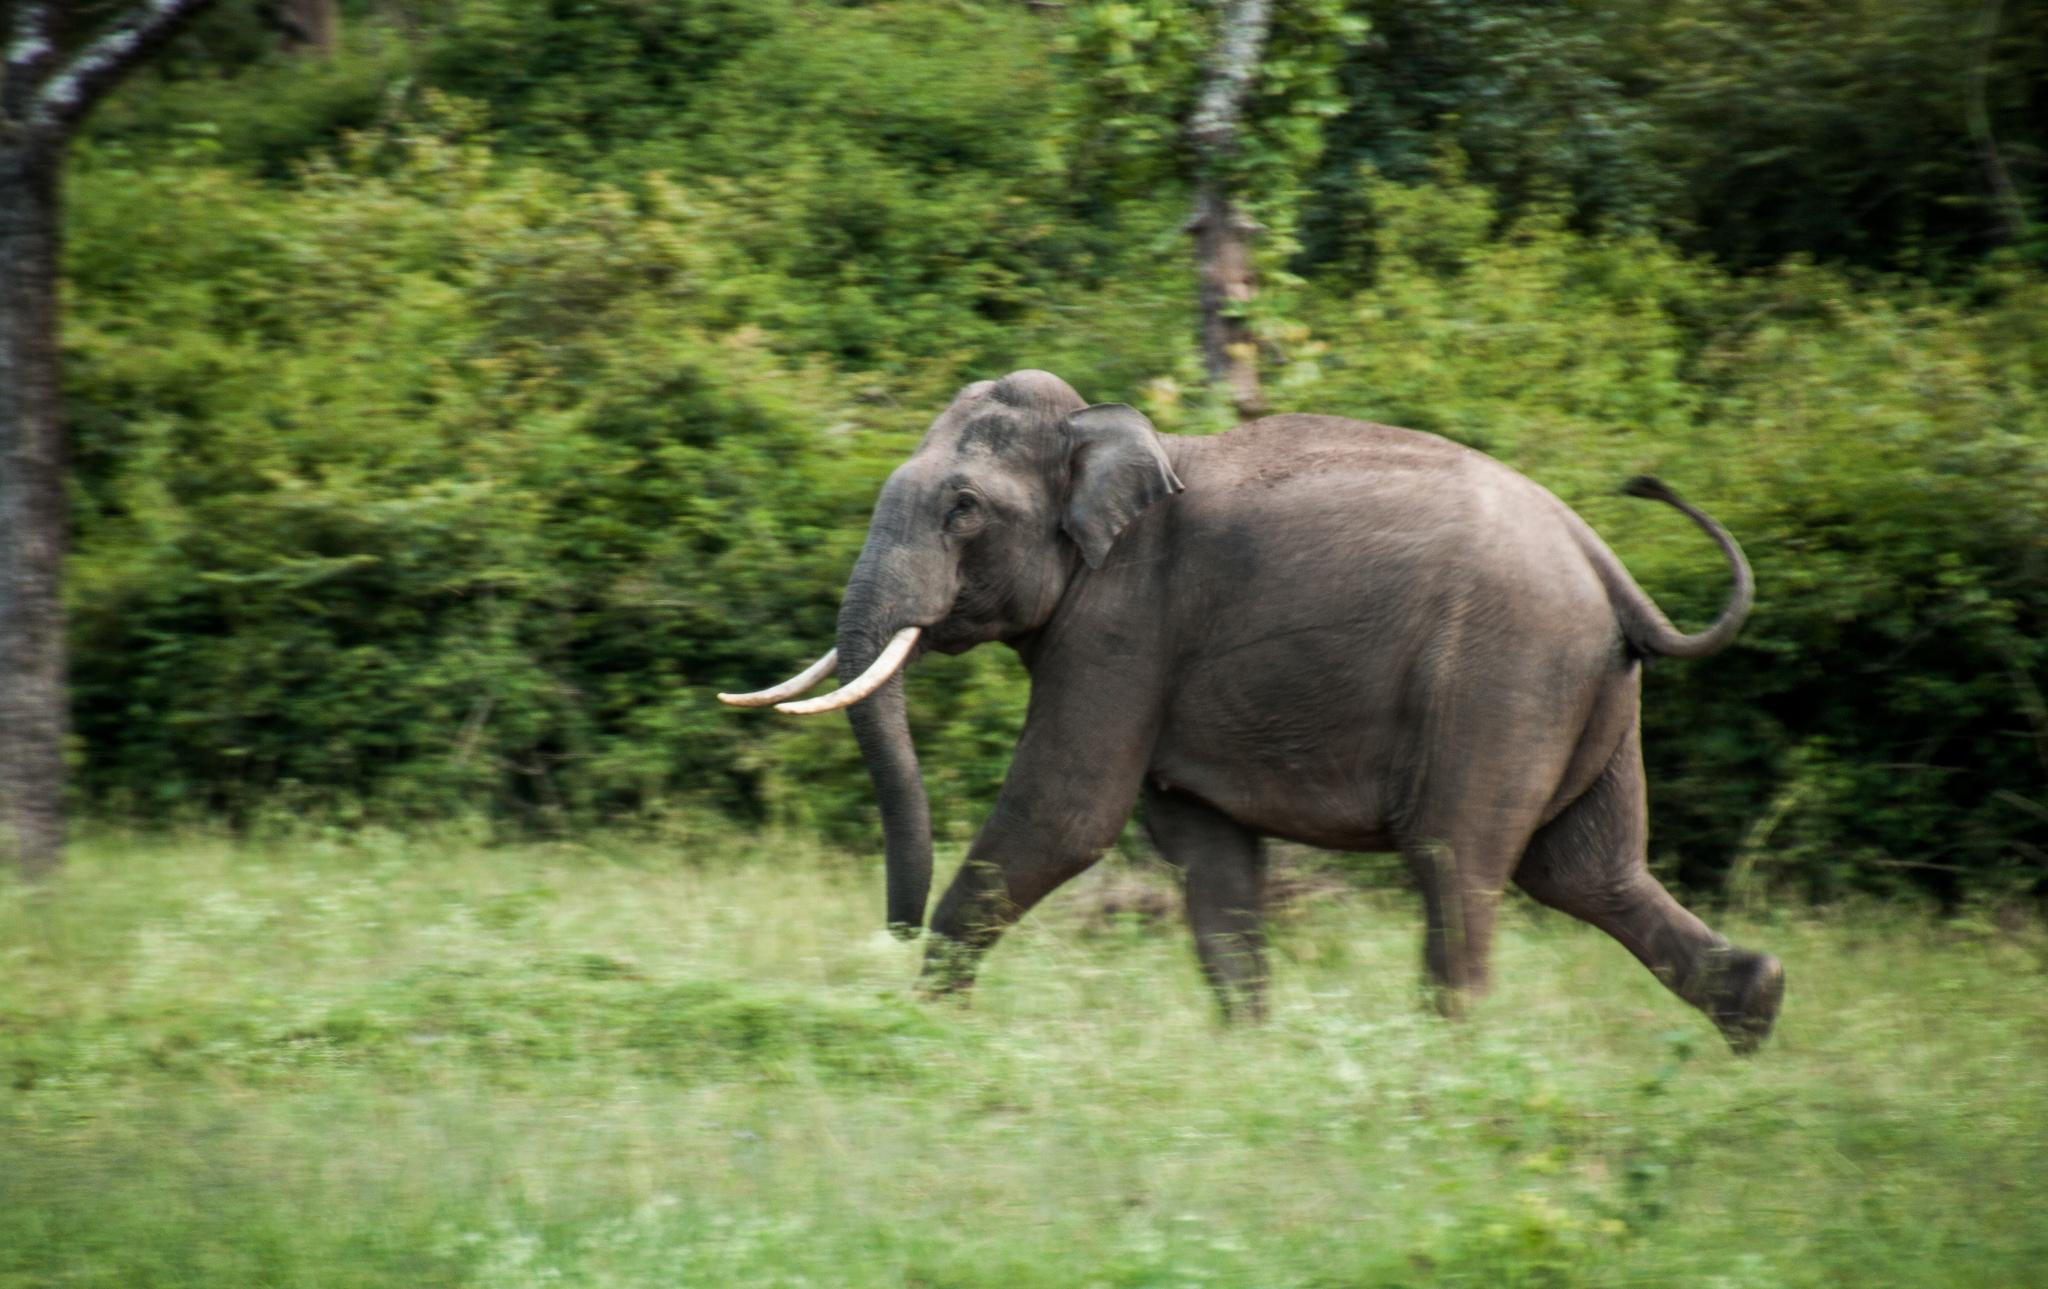Indian Elephant: (704, 334, 1870, 1097)
